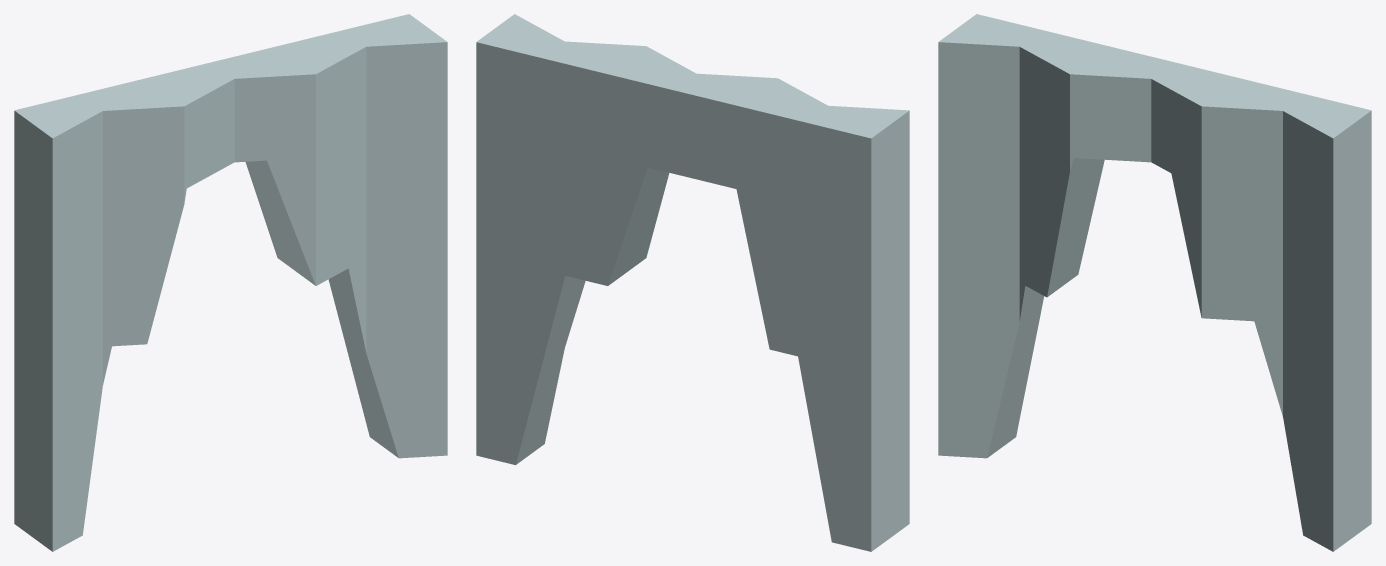
File: cliff_cave_stone.gltf
3 views of the same model, side by side, from view 1: azimuth 30°, elevation 25°; view 2: azimuth 150°, elevation 25°; view 3: azimuth 330°, elevation 25° (orthographic).
Visible parts, largest first — view 1: cliff_cave_stone; view 2: cliff_cave_stone; view 3: cliff_cave_stone.
Boxes of the visible parts, x1,y1,x2,y2 form: cliff_cave_stone: (14, 14, 447, 551); cliff_cave_stone: (476, 14, 909, 551); cliff_cave_stone: (938, 14, 1371, 551).
Bounding box in the file's own units: 1 × 1 × 0.1685.
